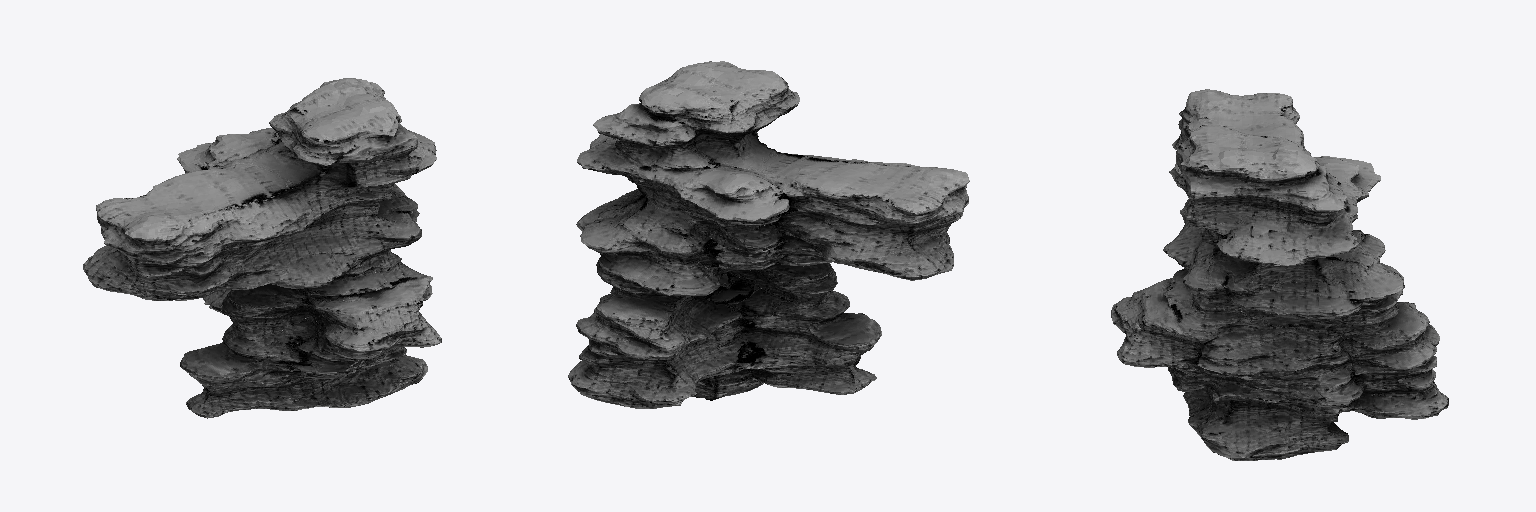
The picture shows the model from 3 angles: view 1: azimuth 30°, elevation 25°; view 2: azimuth 150°, elevation 25°; view 3: azimuth 270°, elevation 25°; orthographic projection.
Parts seen in each view (by area): view 1: fiance_rock_paper_top_Cube.015; view 2: fiance_rock_paper_top_Cube.015; view 3: fiance_rock_paper_top_Cube.015.
Boxes of the visible parts, <box> form: fiance_rock_paper_top_Cube.015: <box>83,78,441,418</box>; fiance_rock_paper_top_Cube.015: <box>568,61,969,408</box>; fiance_rock_paper_top_Cube.015: <box>1111,89,1448,460</box>.
Size of the model in its own units: 1.42 by 1.16 by 1.2.
Materials: 1 (1 with a texture image).